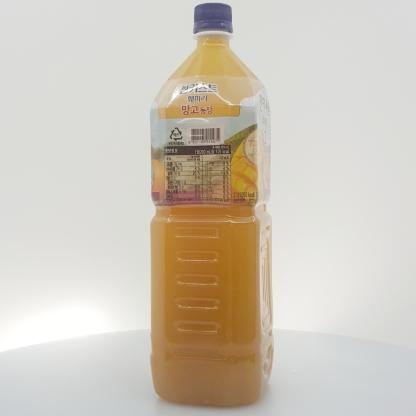---------2L: (150, 3, 274, 406)
